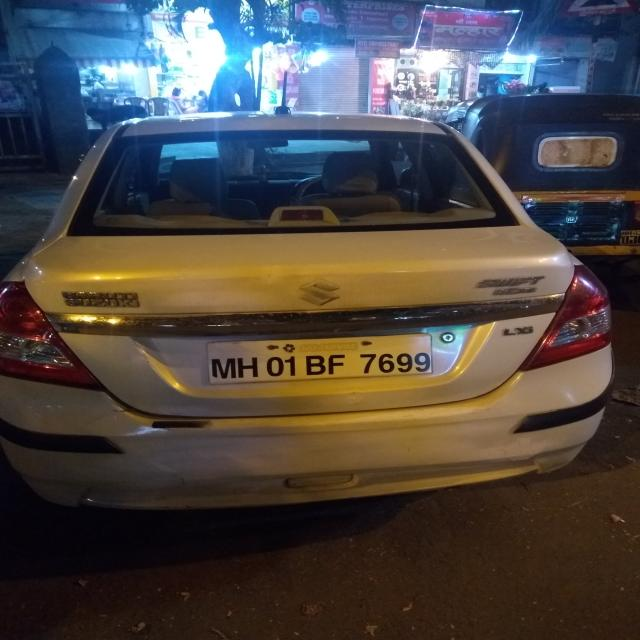Number-Plate: (213, 335, 437, 382)
